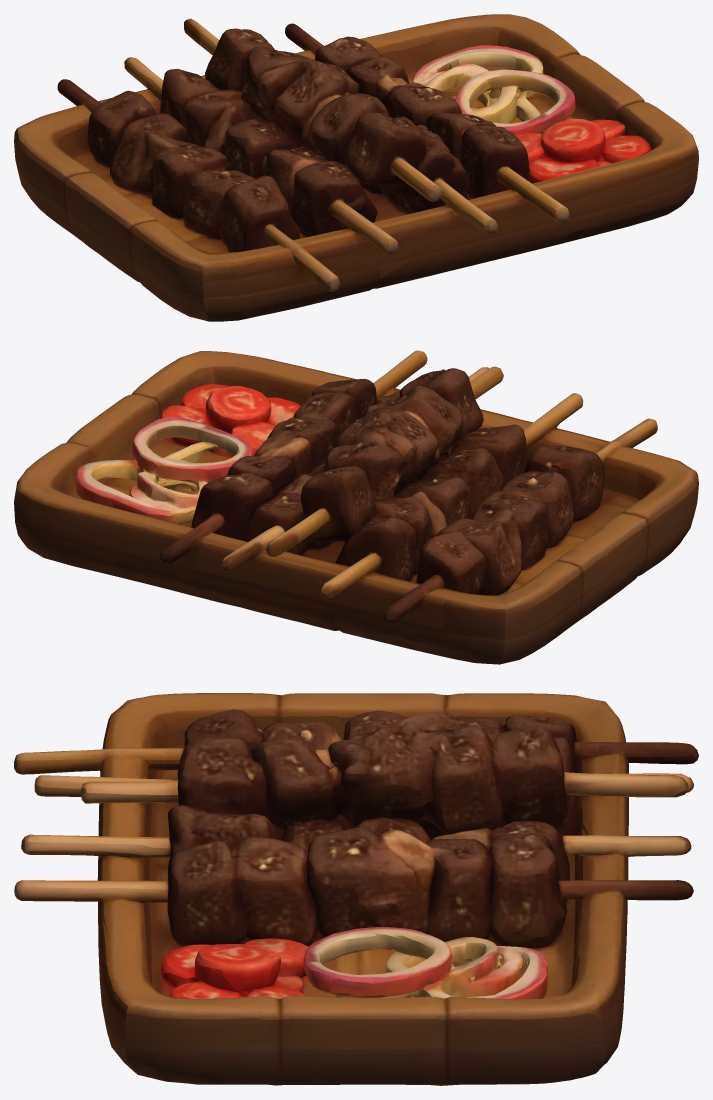
Rendered from suya_tray.glb.
3 renders of one model, top to bottom at view 1: azimuth 30°, elevation 25°; view 2: azimuth 150°, elevation 25°; view 3: azimuth 270°, elevation 25°, orthographic. The views are drawn at different scales.
Parts seen in each view (by area): view 1: geometry_0; view 2: geometry_0; view 3: geometry_0.
Boxes of the visible parts, left/top/right/bottom form: geometry_0: left=14, top=14, right=698, bottom=321; geometry_0: left=14, top=350, right=698, bottom=664; geometry_0: left=14, top=693, right=698, bottom=1085.
Bounding box in the file's own units: 0.32 × 0.089 × 0.2876.
1 material, 1 textured.
